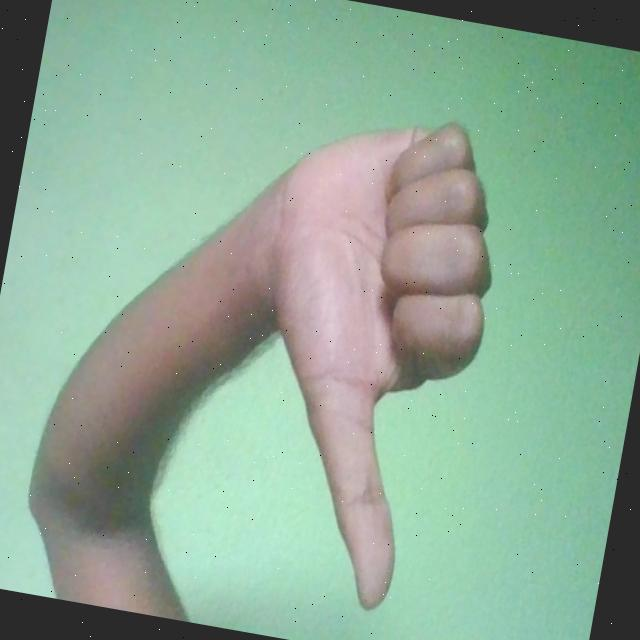Dislike: (204, 92, 516, 620)
